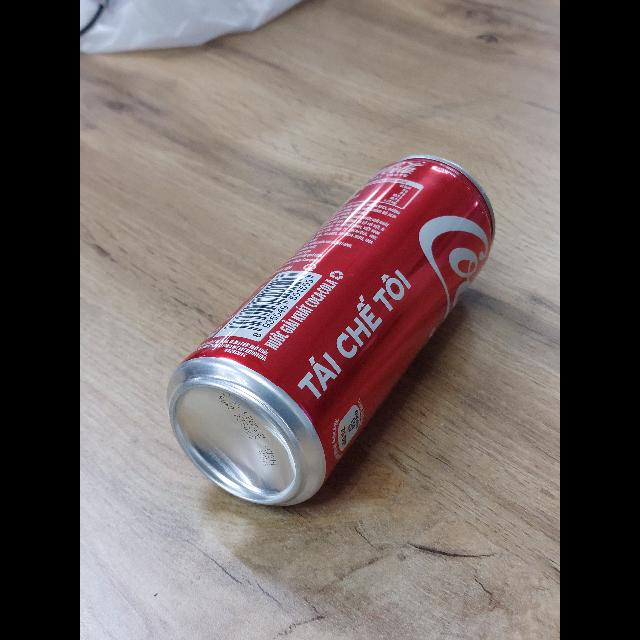coca_cola: (166, 156, 496, 509)
